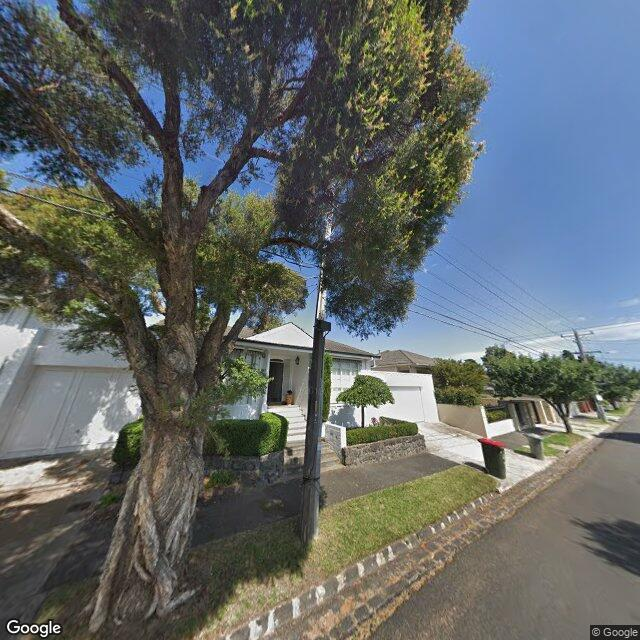HV-transmission: (560, 329, 594, 338)
crossarm: (563, 333, 591, 338), (569, 350, 602, 354)
timber-pole: (299, 168, 335, 546), (574, 332, 608, 423)
